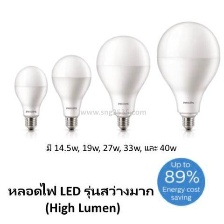light_bulb: (154, 18, 223, 131), (94, 28, 153, 133), (49, 49, 92, 131), (8, 60, 50, 134)
